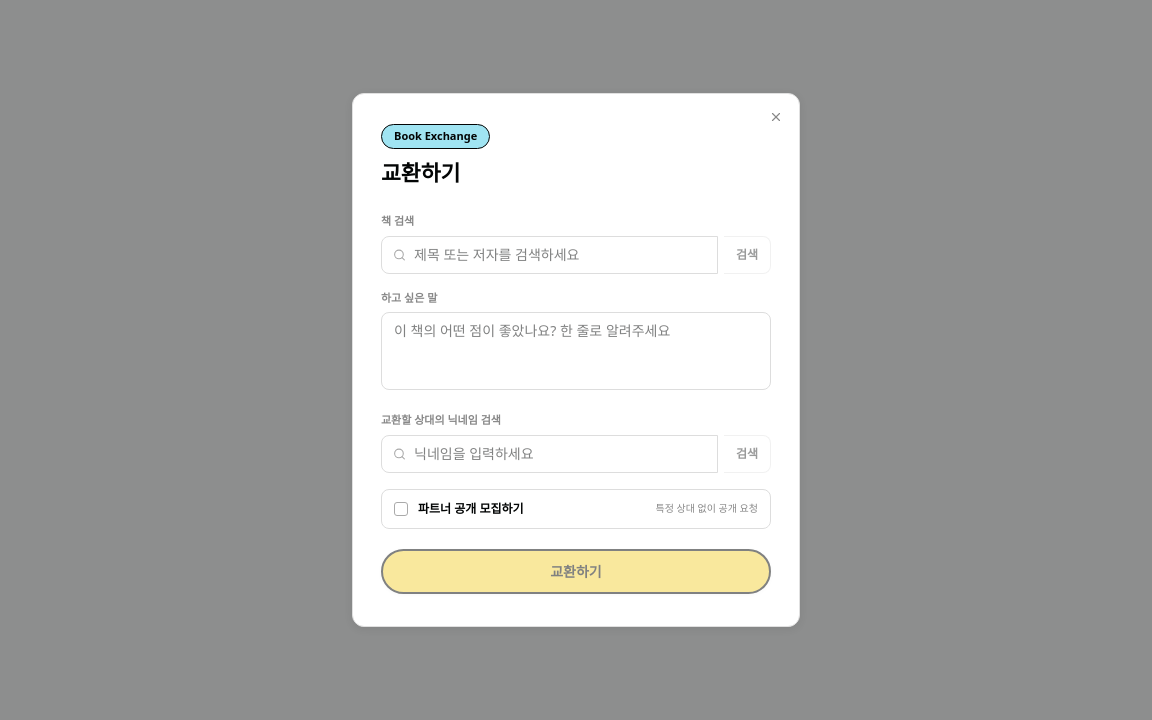
Test: SwapRequestPopup › shows "이미 등록된 책" notice when selected book matches an existing user book
Type "해리포터" into the field with placeholder "제목 또는 저자를 검색하세요" at point(549, 255), box left=381, top=236, right=718, bottom=274
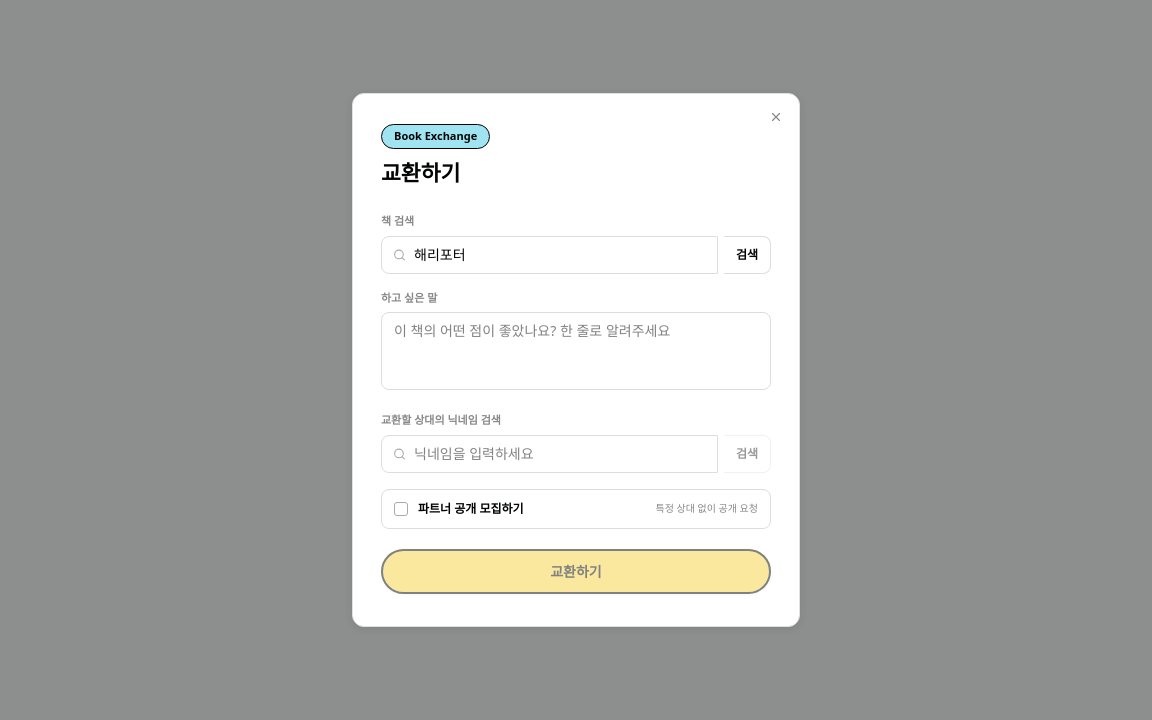
Click the 1st button "검색" at point(747, 255), box left=724, top=236, right=771, bottom=274
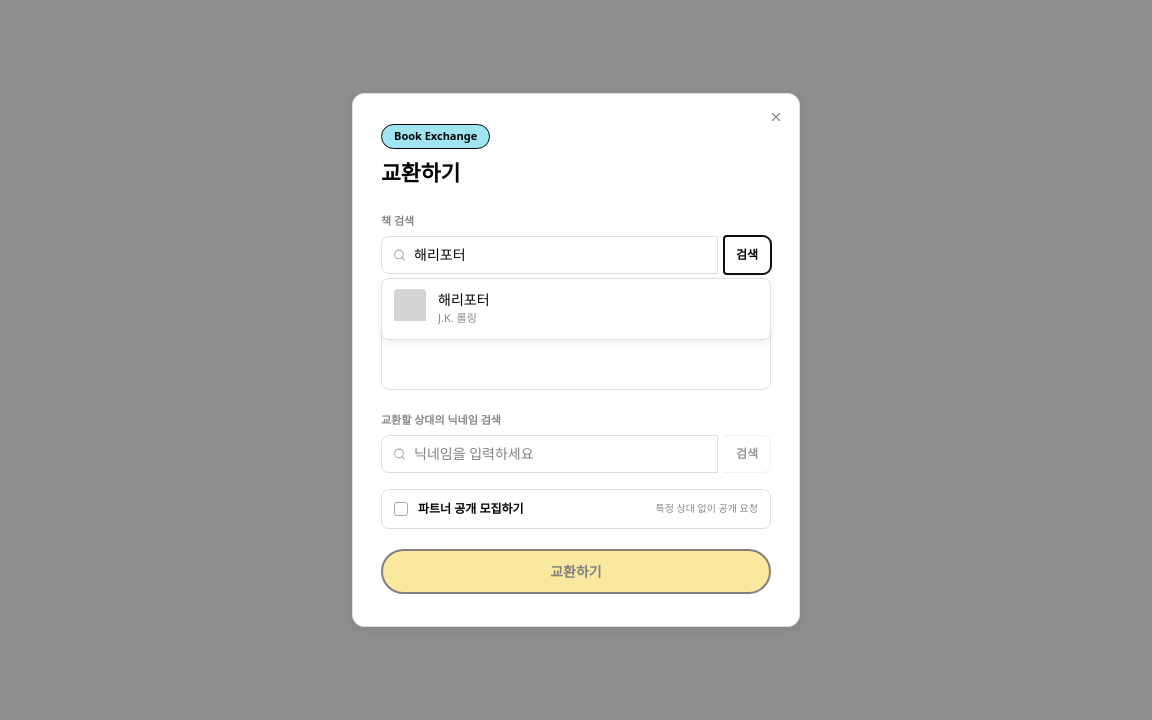
Expected: the text "해리포터" is shown
Click the text "해리포터" at point(464, 300), box left=438, top=290, right=490, bottom=310
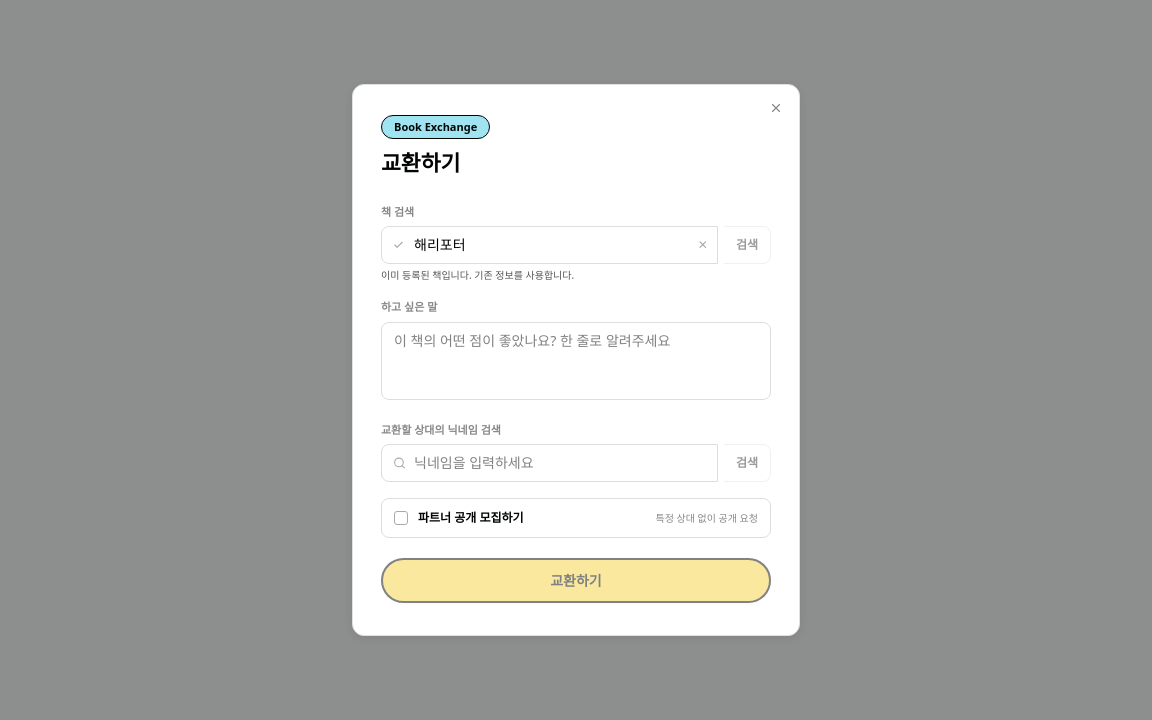
Expected: the text "이미 등록된 책입니다. 기존 정보를 사용합니다." is shown, left=381, top=268, right=574, bottom=282
